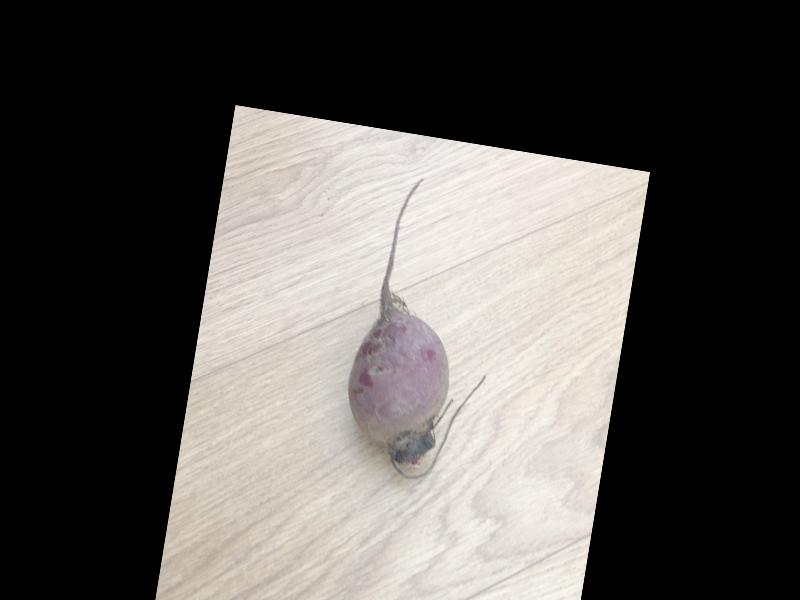Beet: (334, 170, 515, 487)
